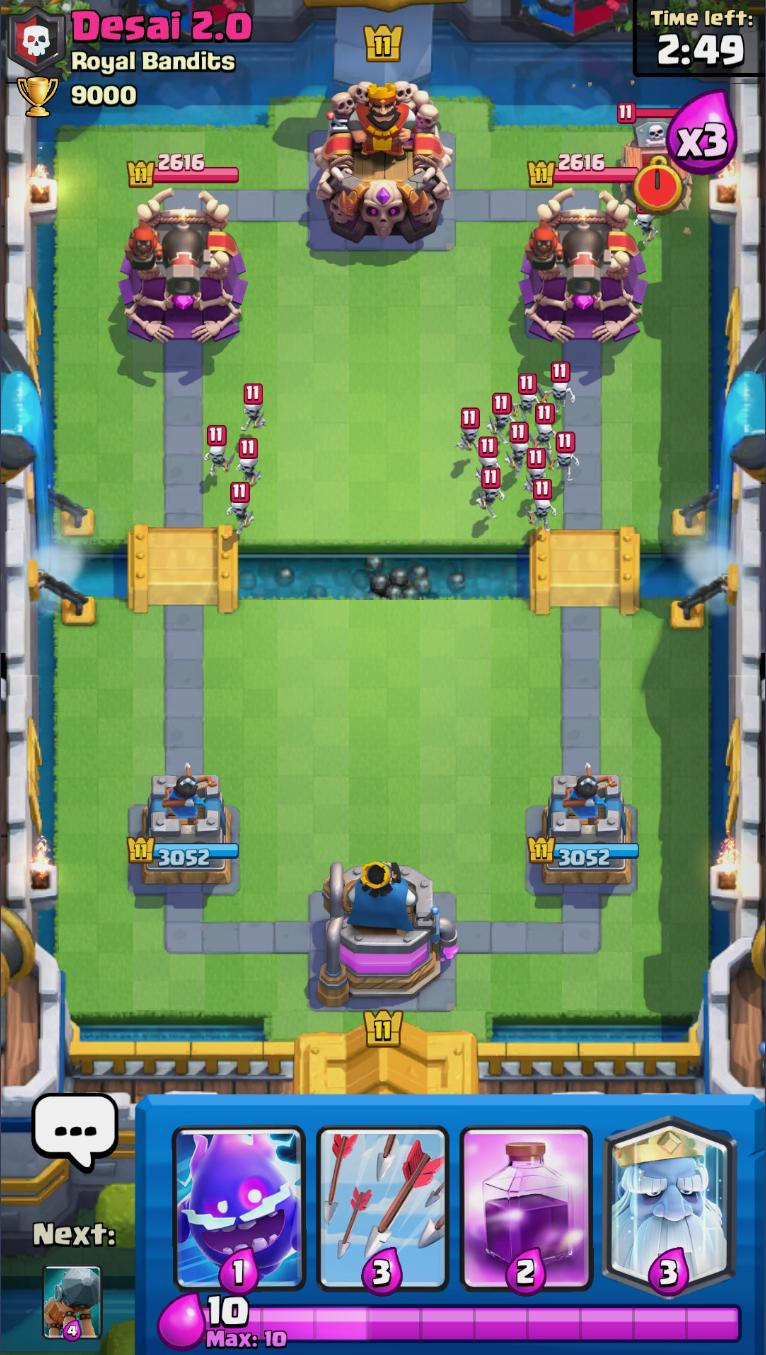ArrowDeck: (311, 1099, 454, 1293)
BattleRamNext: (41, 1263, 103, 1340)
Cannoneer: (524, 211, 610, 296), (124, 211, 207, 297)
ElectroSpiritDeck: (171, 1099, 310, 1294)
Elixir: (201, 1294, 746, 1349)
EnemyTower: (517, 184, 650, 344), (117, 187, 249, 343)
KingTower: (311, 77, 457, 246)
MyKingTower: (314, 857, 460, 1004)
MyPrincessTower: (527, 769, 643, 891), (126, 770, 241, 890)
MyPrincessTowerHP: (524, 831, 643, 871), (126, 831, 240, 870)
RageDeck: (454, 1099, 600, 1293)
RoyaleGhostDeck: (600, 1097, 740, 1293)
Skeleton: (541, 430, 583, 486), (536, 359, 576, 415), (223, 480, 260, 535), (200, 423, 235, 478), (473, 464, 503, 525), (233, 436, 265, 492), (238, 383, 268, 439), (526, 477, 557, 531), (630, 199, 661, 253), (457, 407, 487, 462), (530, 402, 558, 453), (484, 391, 514, 436), (477, 434, 501, 490), (513, 374, 540, 423), (506, 421, 531, 473), (520, 450, 550, 493)
Tombstone: (614, 101, 693, 214)
TowerPrincessHP: (526, 151, 641, 190), (124, 151, 240, 187)
